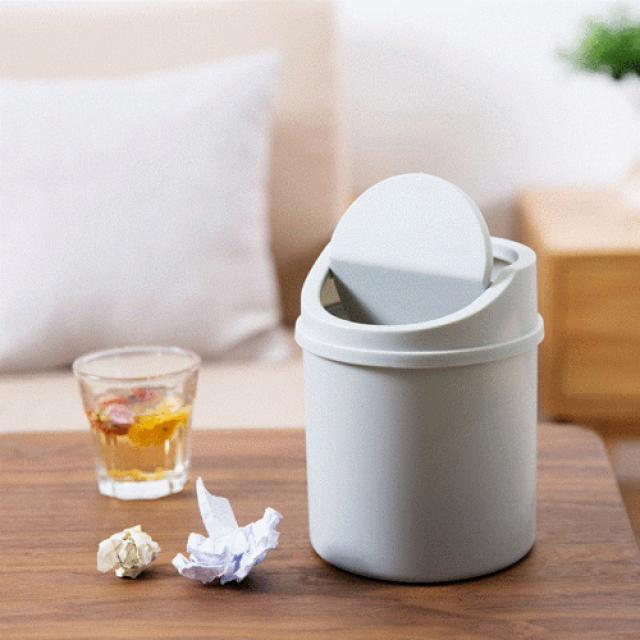crumpled_paper: (172, 474, 283, 598), (96, 524, 166, 588)
dustbin: (280, 155, 552, 600)
